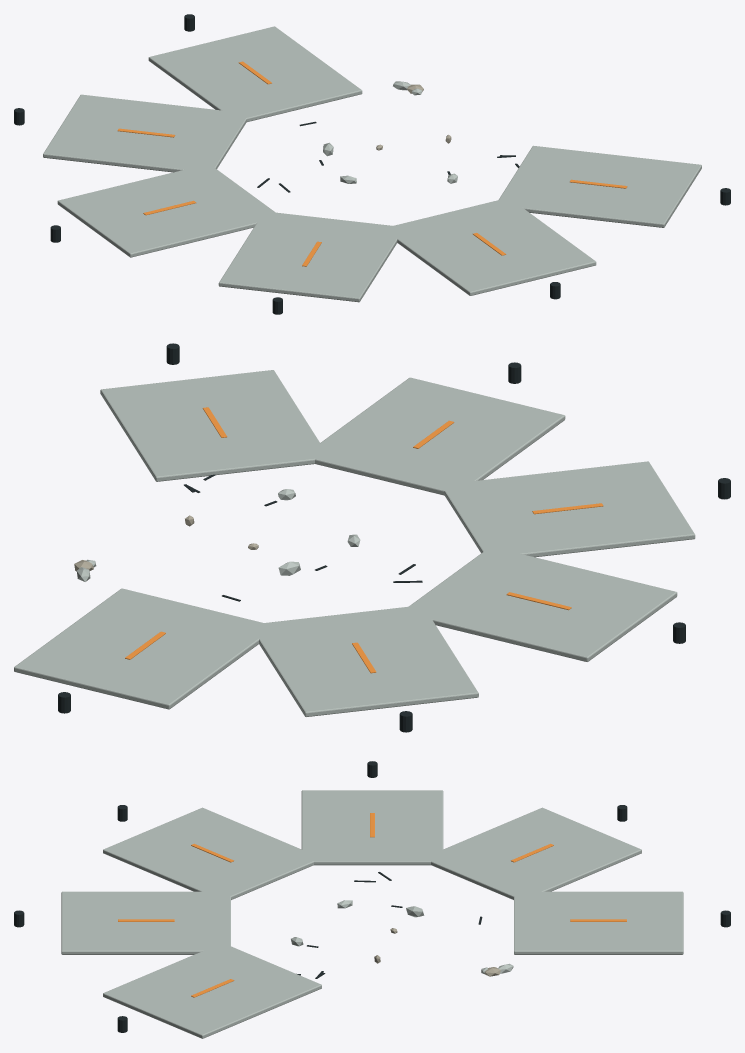
The model's file is air_launchpad_d2.glb.
3 views of the same model, one above another, from view 1: azimuth 30°, elevation 25°; view 2: azimuth 150°, elevation 25°; view 3: azimuth 270°, elevation 25° (orthographic). The views are drawn at different scales.
Parts seen in each view (by area): view 1: Landing armor petal.016, Landing armor petal.019, Landing armor petal.021, Landing armor petal.020, Landing armor petal.018, Landing armor petal.017; view 2: Landing armor petal.016, Landing armor petal.017, Landing armor petal.021, Landing armor petal.019, Landing armor petal.020, Landing armor petal.018; view 3: Landing armor petal.021, Landing armor petal.016, Landing armor petal.017, Landing armor petal.018, Landing armor petal.020, Landing armor petal.019.
Boxes of the visible parts, <box> form: Landing armor petal.016: <box>148,26,362,121</box>; Landing armor petal.019: <box>218,211,403,302</box>; Landing armor petal.021: <box>496,145,701,227</box>; Landing armor petal.020: <box>385,200,596,295</box>; Landing armor petal.018: <box>57,168,280,257</box>; Landing armor petal.017: <box>43,94,246,172</box>; Landing armor petal.016: <box>14,588,274,709</box>; Landing armor petal.017: <box>251,605,478,716</box>; Landing armor petal.021: <box>100,370,328,481</box>; Landing armor petal.019: <box>442,461,695,557</box>; Landing armor petal.020: <box>303,377,565,495</box>; Landing armor petal.018: <box>409,552,677,661</box>; Landing armor petal.021: <box>103,943,321,1038</box>; Landing armor petal.016: <box>514,891,683,954</box>; Landing armor petal.017: <box>424,807,641,899</box>; Landing armor petal.018: <box>301,790,443,865</box>; Landing armor petal.020: <box>61,891,230,954</box>; Landing armor petal.019: <box>103,807,318,899</box>.
Size of the model in its own units: 22.21 by 0.5989 by 25.36.
